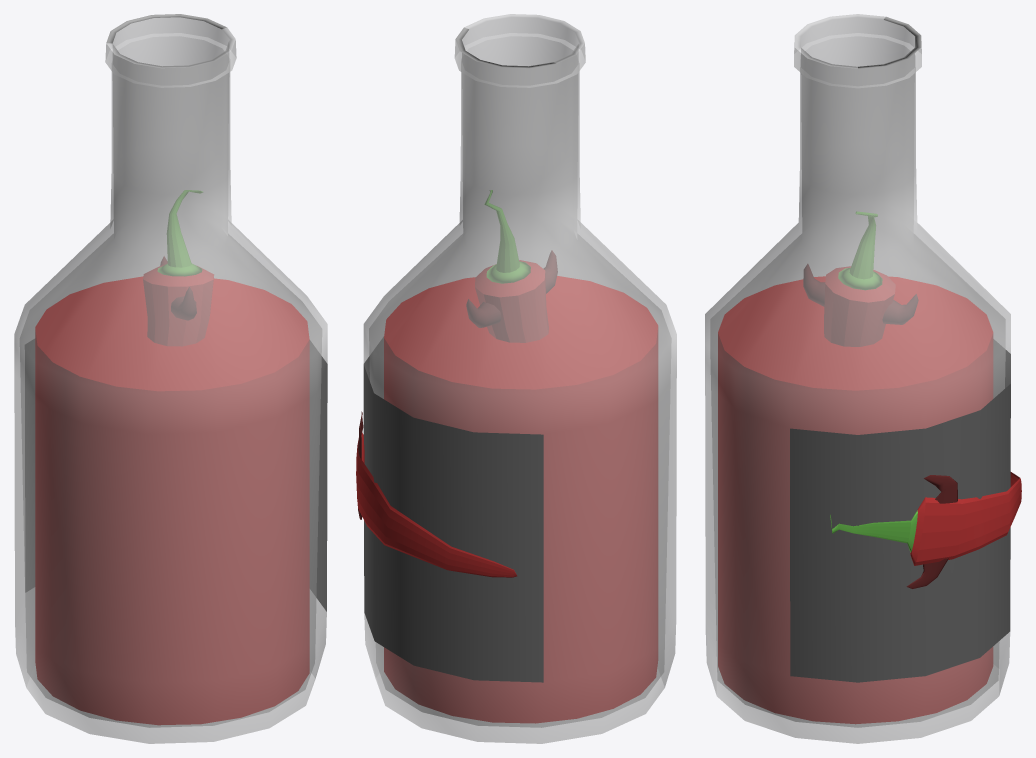
Rendered from Tobasco Sauce.fbx.
The picture shows the model from 3 angles, left to right: view 1: azimuth 30°, elevation 25°; view 2: azimuth 150°, elevation 25°; view 3: azimuth 270°, elevation 25°; orthographic projection.
Visible parts, largest first — view 1: pCylinder3; view 2: pCylinder3; view 3: pCylinder3.
Part boxes in pixels (left/top/right/bottom): pCylinder3: left=14, top=14, right=327, bottom=743; pCylinder3: left=356, top=14, right=676, bottom=743; pCylinder3: left=705, top=14, right=1021, bottom=743.
Bounding box in the file's own units: 2.09 × 4.68 × 2.09.
